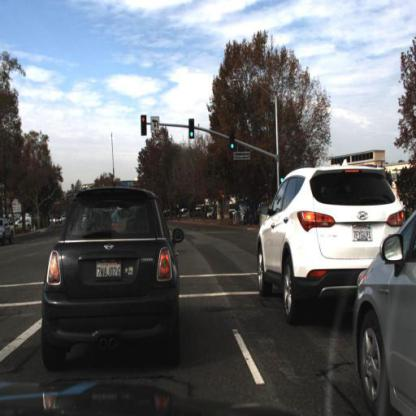car: (29, 178, 183, 387), (249, 164, 410, 327), (349, 168, 416, 416)
trafficLight-Green: (226, 129, 238, 160), (189, 117, 198, 143), (229, 131, 238, 155), (278, 165, 286, 186)
trafficLight-RedLeft: (141, 115, 150, 141)
